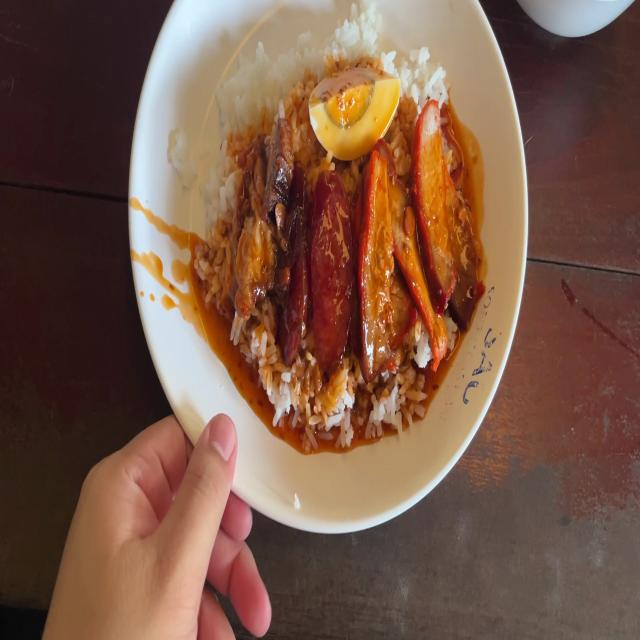01boiled_egg: (316, 74, 396, 140)
01chainese_sausage: (289, 181, 352, 352)
01crispy_pork: (243, 134, 290, 301)
01red_pork: (368, 140, 461, 358)
01red_pork_and_crispy_pork: (205, 53, 473, 442)
01rice: (269, 371, 409, 440), (196, 37, 292, 136), (205, 142, 239, 288), (337, 2, 389, 64), (234, 327, 280, 389), (403, 61, 451, 118)
